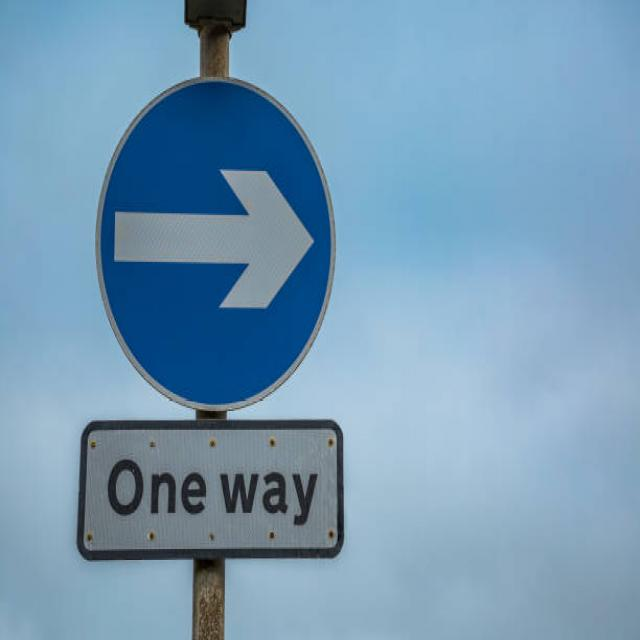compulsory_keep_right: (90, 68, 339, 417)
